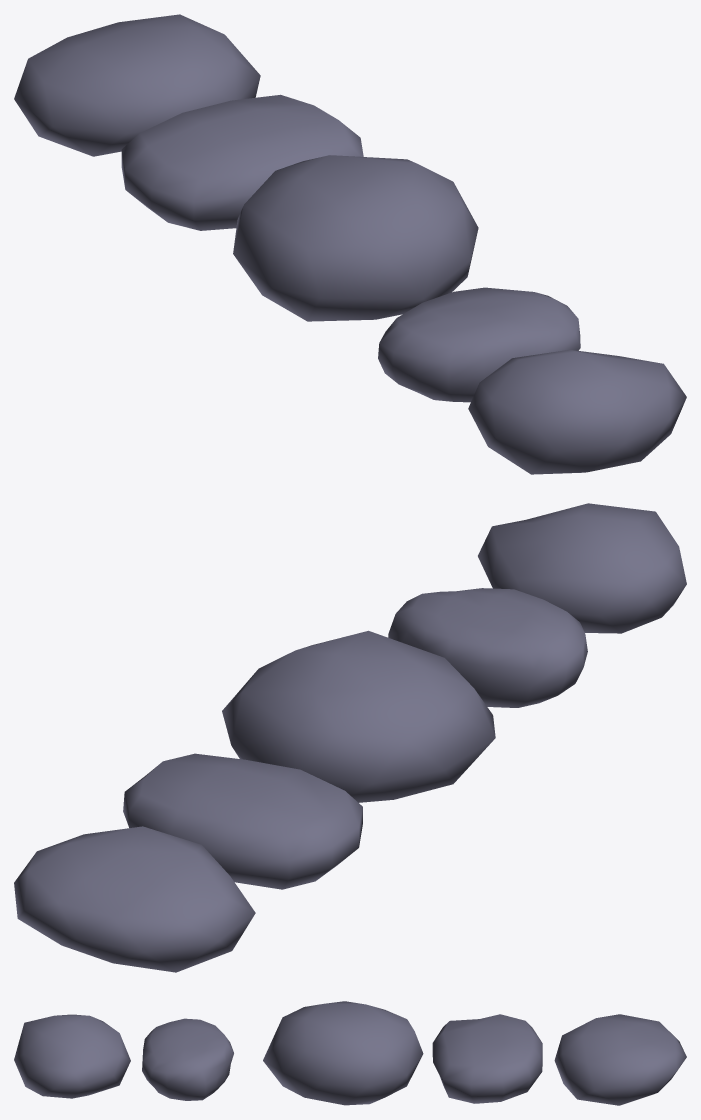
The model's file is pedras.fbx.
3 views of the same model, one above another, from view 1: azimuth 30°, elevation 25°; view 2: azimuth 150°, elevation 25°; view 3: azimuth 270°, elevation 25° (orthographic). The views are drawn at different scales.
Visible parts, largest first — view 1: Icosphere, Icosphere.001, Icosphere.002, Cube, Cube.001; view 2: Icosphere, Icosphere.001, Cube, Icosphere.002, Cube.001; view 3: Icosphere, Icosphere.001, Cube, Icosphere.002, Cube.001.
Boxes of the visible parts, x1,y1,x2,y2 form: Icosphere: (233, 155, 478, 321); Icosphere.001: (14, 14, 260, 156); Icosphere.002: (468, 349, 686, 474); Cube: (121, 94, 363, 230); Cube.001: (378, 287, 580, 402); Icosphere: (222, 630, 495, 802); Icosphere.001: (14, 826, 255, 972); Cube: (123, 753, 362, 889); Icosphere.002: (478, 503, 686, 633); Cube.001: (388, 588, 587, 707); Icosphere: (263, 1001, 423, 1105); Icosphere.001: (554, 1014, 686, 1105); Cube: (432, 1014, 542, 1103); Icosphere.002: (14, 1014, 130, 1098); Cube.001: (142, 1018, 233, 1100).
Size of the model in its own units: 305 by 162 by 1274.
